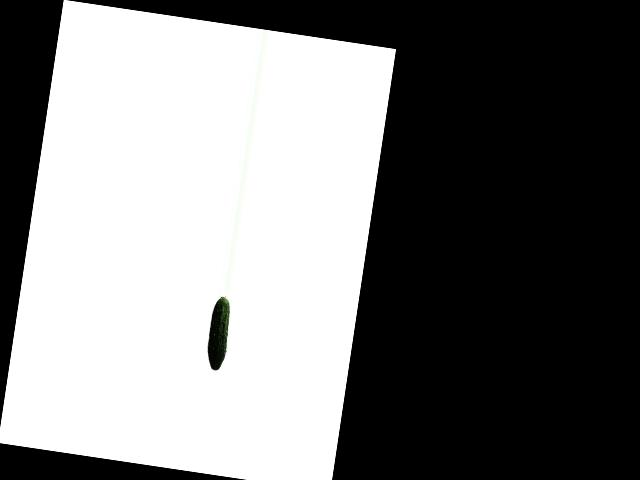cucumber: (204, 295, 233, 371)
